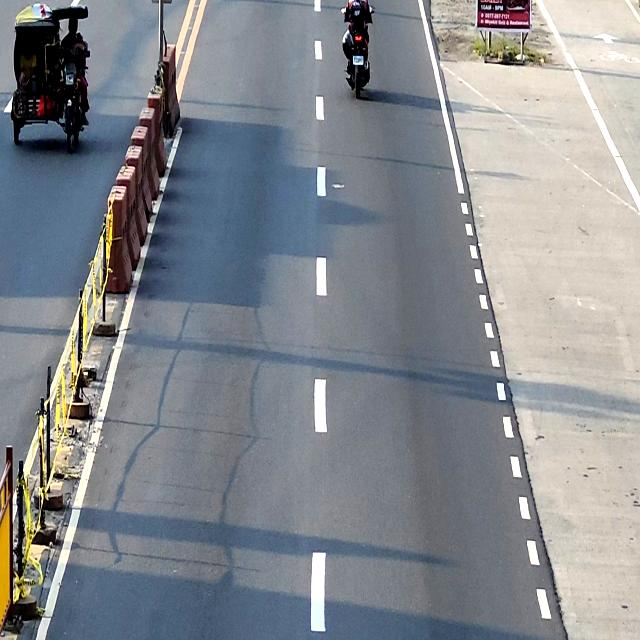License-Plate: (352, 56, 363, 65)
Motorcycle: (341, 6, 374, 99)
Tricycle: (12, 9, 89, 150)
